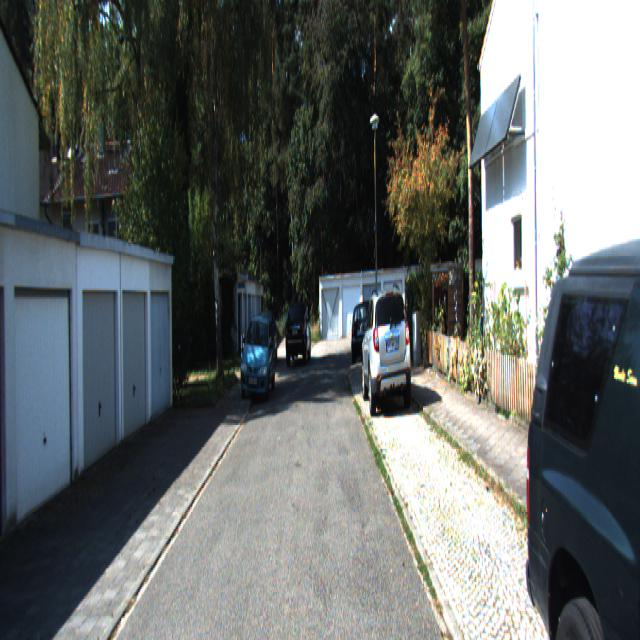Car: (518, 181, 640, 638), (360, 286, 411, 417), (240, 309, 274, 398), (351, 297, 380, 360), (286, 302, 312, 365)
